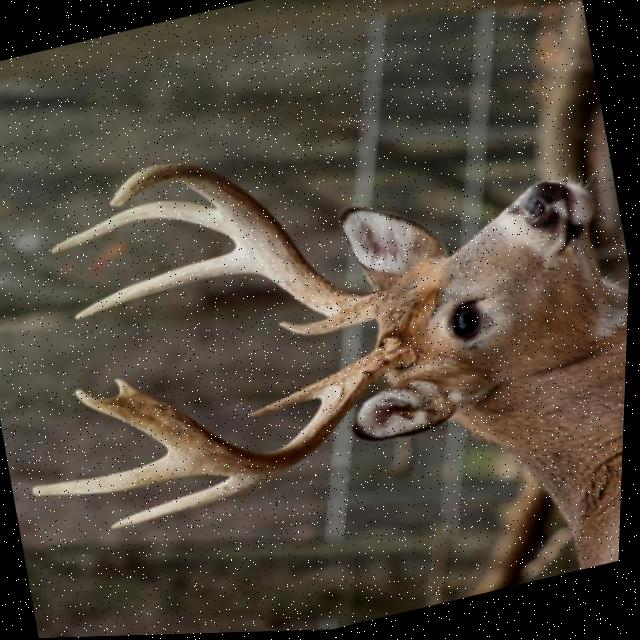E1: (76, 389, 124, 420)
L-F: (117, 340, 419, 478)
L-G1: (251, 378, 332, 418)
L-G3: (35, 452, 209, 496)
R-F: (110, 163, 386, 323)
R-G1: (280, 311, 365, 337)
R-G2: (76, 249, 263, 320)
R-G3: (52, 202, 228, 254)
